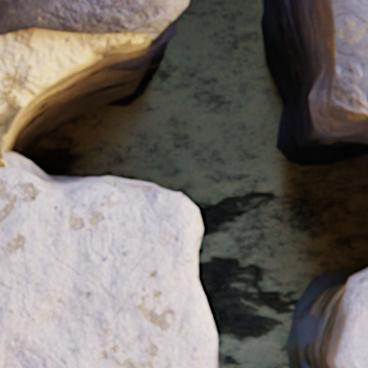broken_brick: (0, 167, 216, 367), (0, 0, 188, 36), (325, 0, 367, 113), (331, 270, 367, 367)
crack: (0, 0, 367, 367)
